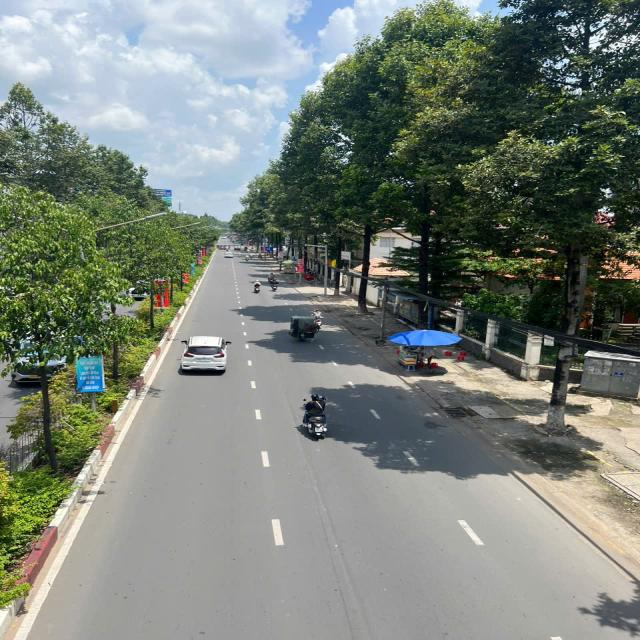car: (177, 333, 234, 378), (220, 249, 236, 261)
motobyte: (294, 390, 339, 443), (311, 306, 326, 328), (248, 278, 265, 294), (267, 277, 281, 293)
